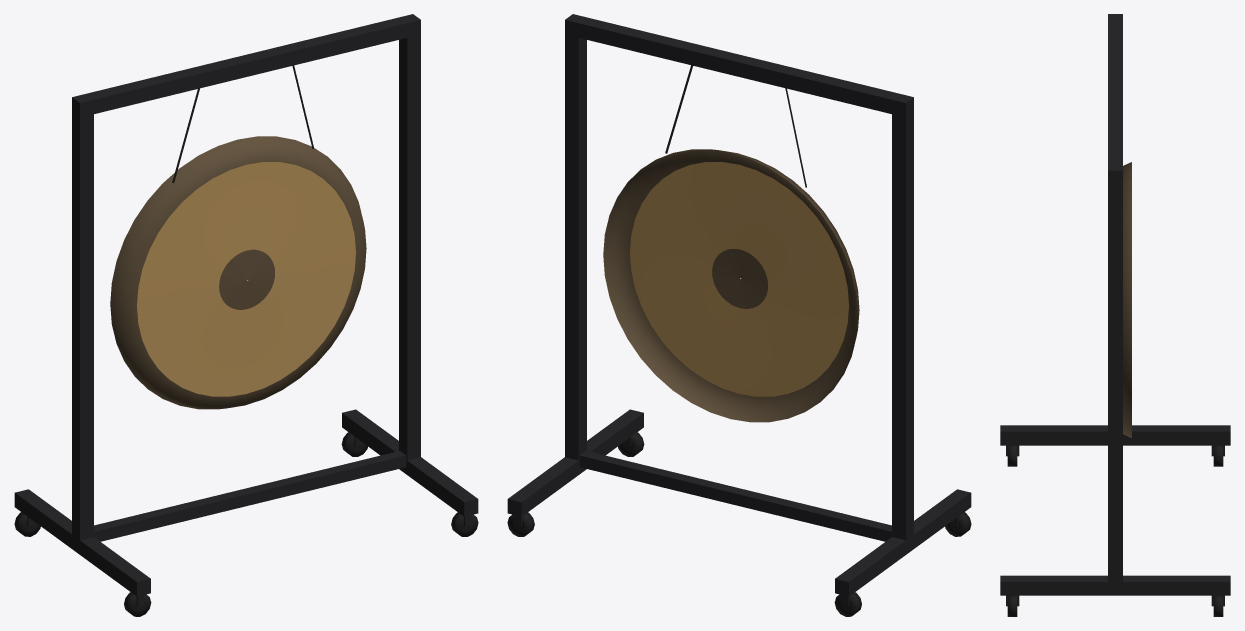
Rendered from gong-36.glb.
3 renders of one model, left to right at view 1: azimuth 30°, elevation 25°; view 2: azimuth 150°, elevation 25°; view 3: azimuth 270°, elevation 25°, orthographic. The views are drawn at different scales.
Visible parts, largest first — view 1: frame, gong, gong-dark, rubber; view 2: frame, gong, gong-dark, rubber; view 3: frame, gong-dark, rubber.
Part boxes in pixels (x1,y1,x2,y2): frame: (14,14,478,606); gong: (137,162,355,396); gong-dark: (110,136,366,409); rubber: (14,65,478,616); frame: (507,14,971,606); gong: (630,162,848,396); gong-dark: (603,149,859,422); rubber: (507,65,971,616); frame: (1000,14,1230,606); gong-dark: (1123,162,1131,437); rubber: (1007,446,1223,616).
Bounding box in the file's own units: 1.25 × 1.63 × 0.76.
